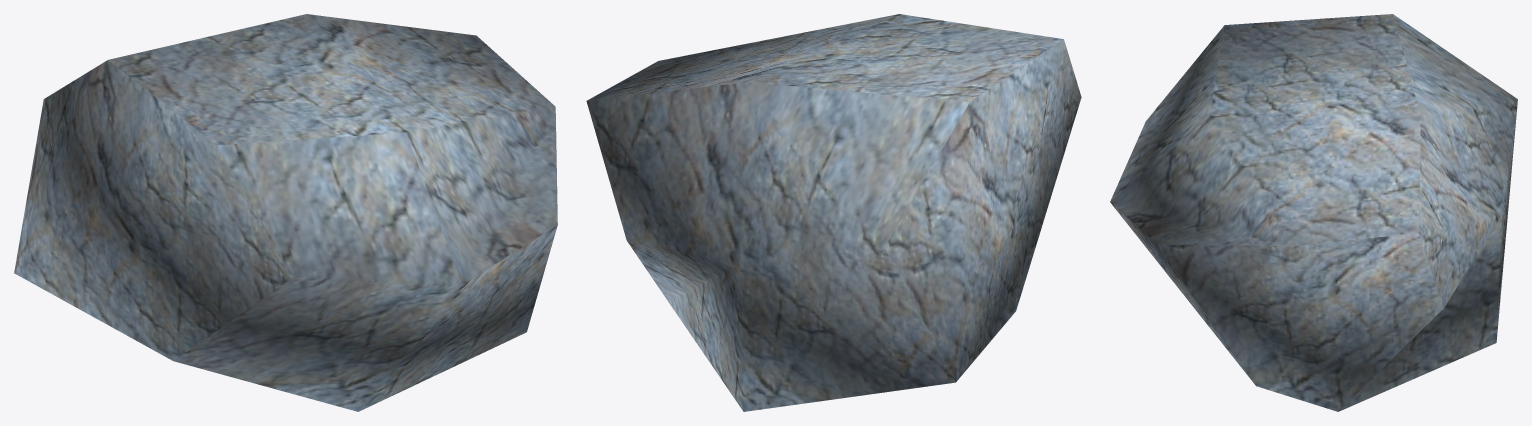
Rendered from Pedra.fbx.
3 renders of one model, left to right at view 1: azimuth 30°, elevation 25°; view 2: azimuth 150°, elevation 25°; view 3: azimuth 270°, elevation 25°, orthographic. The views are drawn at different scales.
Visible parts, largest first — view 1: PSX_Rock; view 2: PSX_Rock; view 3: PSX_Rock.
Part boxes in pixels (left/top/right/bottom): PSX_Rock: left=14, top=14, right=557, bottom=411; PSX_Rock: left=586, top=14, right=1081, bottom=411; PSX_Rock: left=1110, top=14, right=1517, bottom=411.
Bounding box in the file's own units: 305 × 226 × 310.
1 material, 1 textured.
